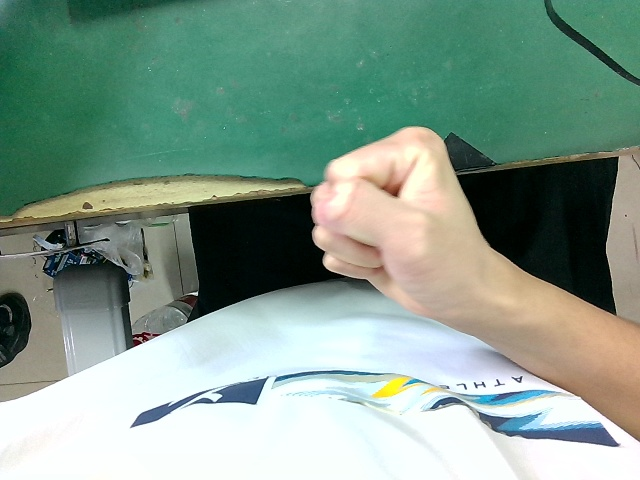stone: (296, 108, 501, 320)
